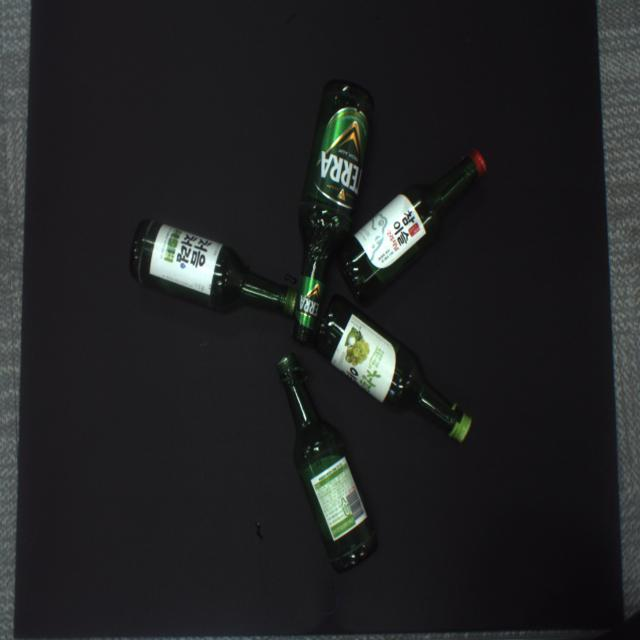beer-bottle: (293, 80, 376, 344)
soju-bottle: (315, 295, 471, 442), (338, 150, 486, 300), (277, 353, 377, 571), (130, 220, 298, 316)
